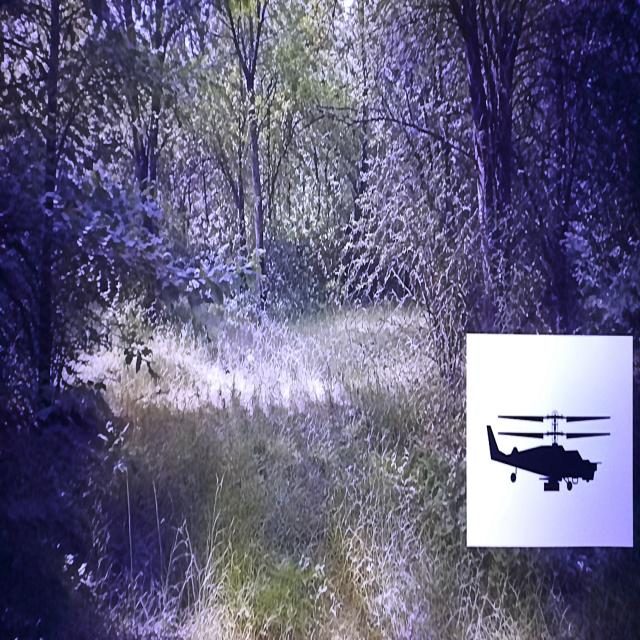Ka-52 Enemy: (488, 412, 609, 490)
